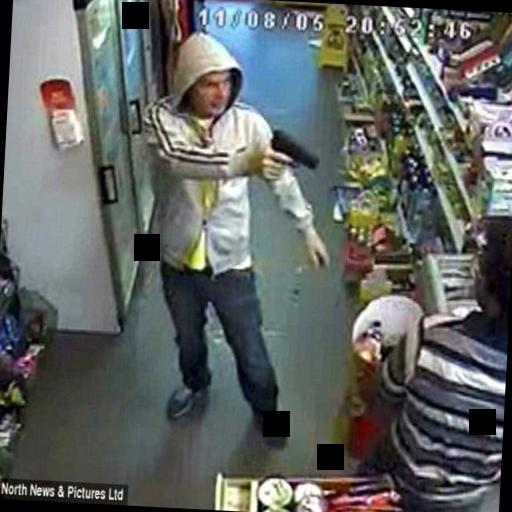Handgun: (265, 124, 320, 182)
